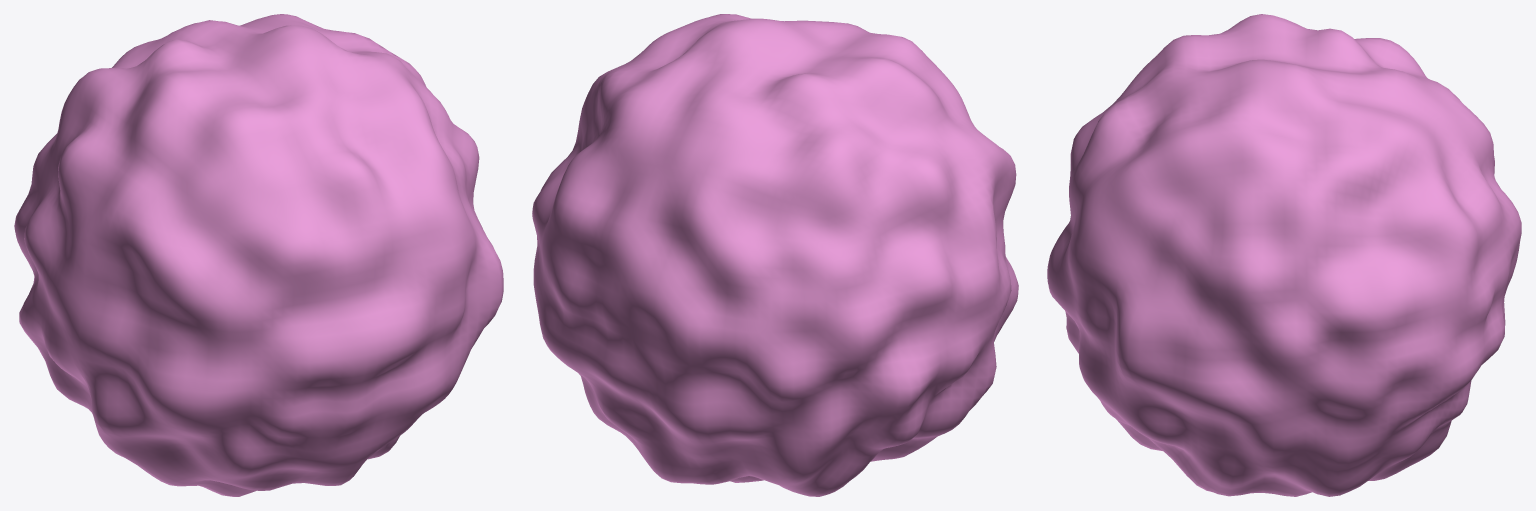
The model's file is modelOne.gltf.
3 views of the same model, side by side, from view 1: azimuth 30°, elevation 25°; view 2: azimuth 150°, elevation 25°; view 3: azimuth 270°, elevation 25° (orthographic). The views are drawn at different scales.
Visible parts, largest first — view 1: Membrane; view 2: Membrane; view 3: Membrane.
Boxes of the visible parts, x1,y1,x2,y2 form: Membrane: (14,14,503,496); Membrane: (532,14,1018,496); Membrane: (1047,14,1521,496).
Bounding box in the file's own units: 2.61 × 2.63 × 2.65.
